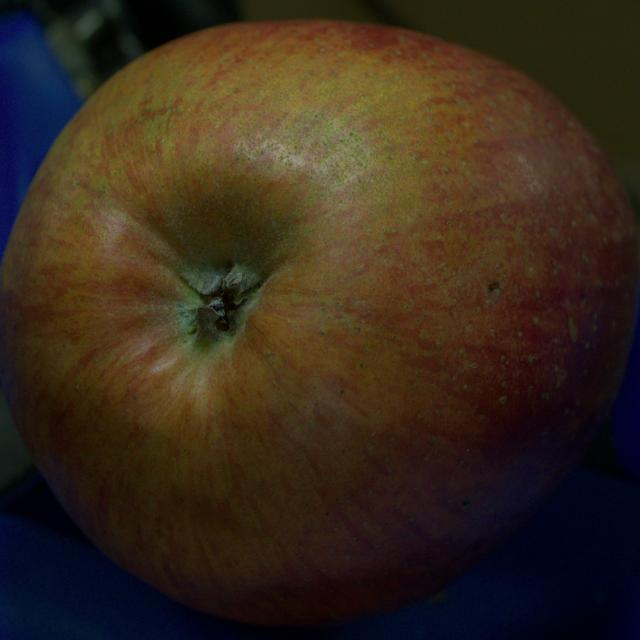apple: (0, 21, 639, 625)
pest: (489, 283, 499, 291), (462, 499, 471, 506)
